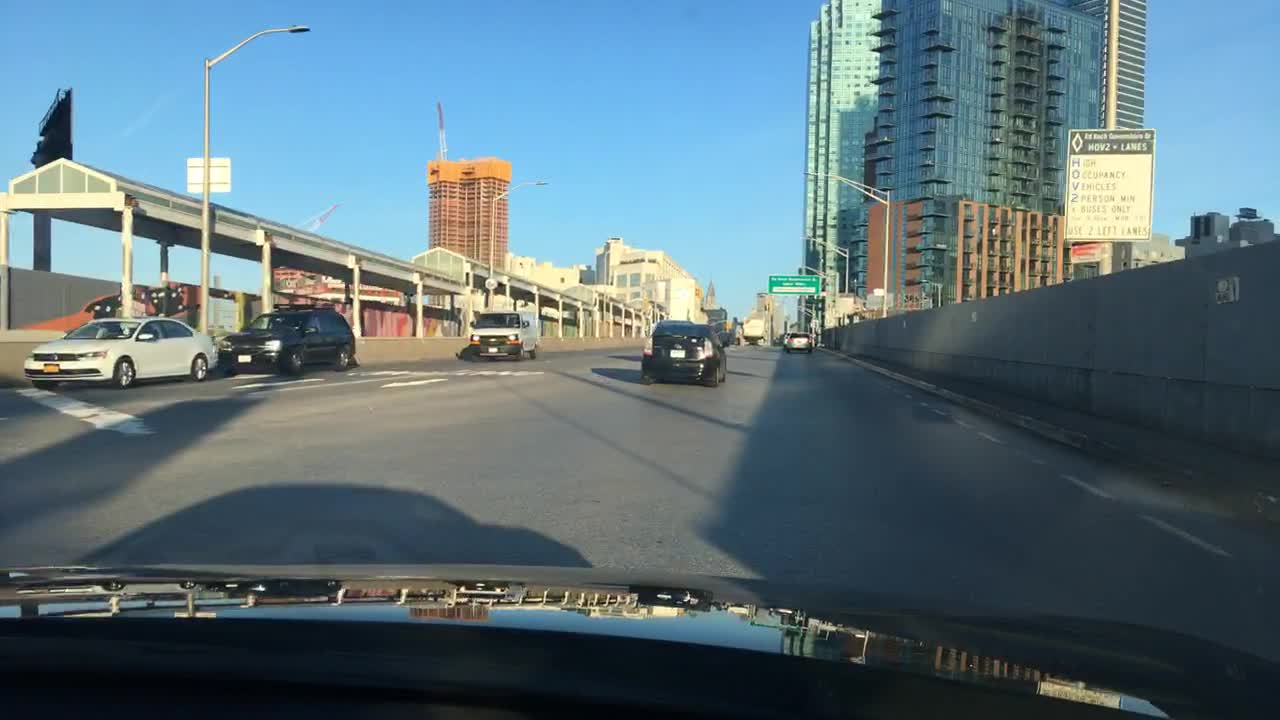car: (26, 318, 217, 389), (217, 303, 354, 374), (643, 321, 726, 386), (467, 309, 539, 359), (708, 323, 732, 347), (786, 330, 812, 351), (781, 330, 794, 344)
traffic sign: (1067, 124, 1155, 238), (35, 90, 70, 168), (186, 157, 229, 192), (768, 274, 821, 294), (1067, 242, 1107, 259), (838, 290, 853, 315), (874, 288, 885, 296)
